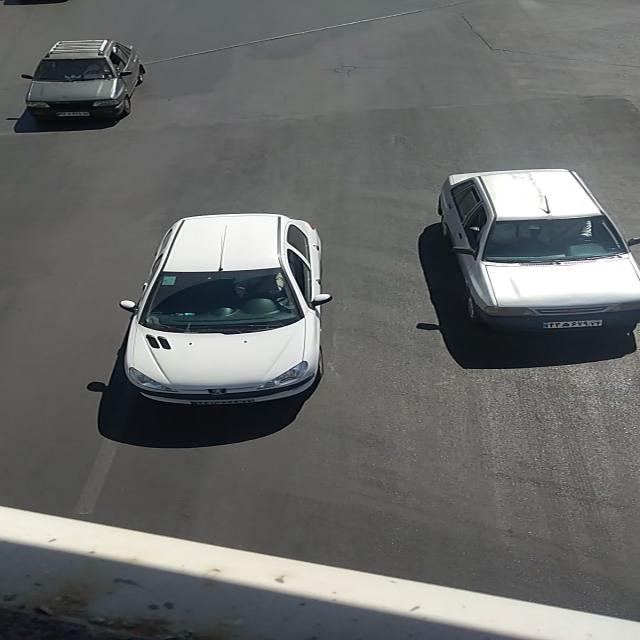car: (120, 215, 328, 407), (436, 168, 638, 332), (22, 39, 148, 127)
